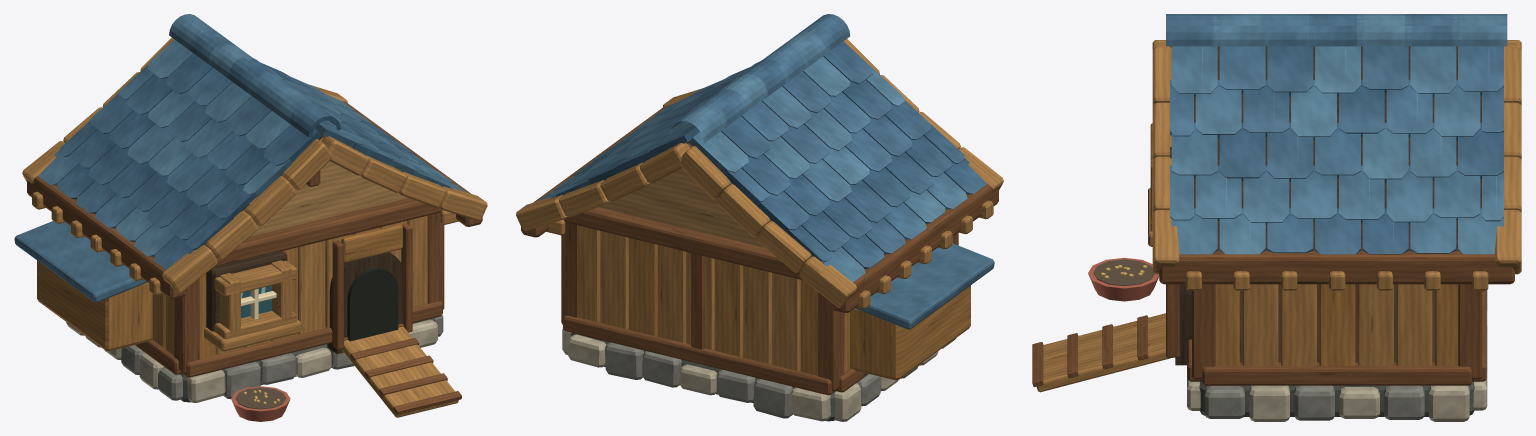
File: coop.glb
The picture shows the model from 3 angles, left to right: view 1: azimuth 30°, elevation 25°; view 2: azimuth 150°, elevation 25°; view 3: azimuth 270°, elevation 25°; orthographic projection. The views are drawn at different scales.
Visible parts, largest first — view 1: Batch_0_0_-9223371994123205027, Batch_-1_0_-9223372003669441051, Batch_0_0_-9223372003686218284, Batch_0_0_-9223372003669441051, Batch_-1_0_-9223372003686218284, Batch_-1_-1_-9223372003635886617, Batch_-1_-1_-9223371857355335716, Batch_0_0_-9223371870894549281, Batch_0_0_-9223371859301492929, Batch_-1_0_-9223372003619109400, Batch_0_0_-9223372003652663834, Batch_-1_0_-9223372003635886617 (+9 smaller); view 2: Batch_0_0_-9223371994123205027, Batch_-1_-1_-9223372003669441051, Batch_0_-1_-9223372003686218284, Batch_0_-1_-9223372003669441051, Batch_-1_-1_-9223372003635886617, Batch_-1_-1_-9223371857355335716, Batch_0_0_-9223371870894549281, Batch_-1_0_-9223372003686218284, Batch_-1_-1_-9223372003619109400, Batch_0_-1_-9223372003635886617, Batch_0_-1_-9223372003619109400, Batch_0_-1_-9223372003602332183 (+4 smaller); view 3: Batch_0_0_-9223371994123205027, Batch_0_0_-9223372003686218284, Batch_0_0_-9223372003669441051, Batch_0_-1_-9223372003669441051, Batch_0_-1_-9223372003635886617, Batch_0_0_-9223372003652663834, Batch_0_-1_-9223372003602332183, Batch_0_0_-9223372003619109400, Batch_0_-1_-9223372003686218284, Batch_0_0_-9223372003635886617, Batch_0_0_-9223372003602332183, Batch_0_-1_-9223372003619109400 (+5 smaller).
Part boxes in pixels (x1,y1,x2,y2): Batch_0_0_-9223371994123205027: (38, 14, 466, 269); Batch_-1_0_-9223372003669441051: (90, 139, 331, 354); Batch_0_0_-9223372003686218284: (182, 101, 482, 414); Batch_0_0_-9223372003669441051: (321, 136, 487, 417); Batch_-1_0_-9223372003686218284: (27, 176, 199, 374); Batch_-1_-1_-9223372003635886617: (37, 260, 152, 350); Batch_-1_-1_-9223371857355335716: (14, 221, 147, 302); Batch_0_0_-9223371870894549281: (250, 137, 407, 236); Batch_0_0_-9223371859301492929: (347, 267, 398, 341); Batch_-1_0_-9223372003619109400: (121, 345, 296, 400); Batch_0_0_-9223372003652663834: (241, 134, 403, 353); Batch_-1_0_-9223372003635886617: (165, 247, 297, 358); Batch_0_0_-9223371994123205027: (538, 14, 986, 282); Batch_-1_-1_-9223372003669441051: (679, 146, 911, 370); Batch_0_-1_-9223372003686218284: (561, 207, 835, 395); Batch_0_-1_-9223372003669441051: (516, 142, 690, 342); Batch_-1_-1_-9223372003635886617: (714, 259, 970, 380); Batch_-1_-1_-9223371857355335716: (855, 243, 994, 329); Batch_0_0_-9223371870894549281: (599, 143, 764, 247); Batch_-1_0_-9223372003686218284: (831, 184, 998, 392); Batch_-1_-1_-9223372003619109400: (716, 369, 880, 418); Batch_0_-1_-9223372003635886617: (629, 238, 657, 335); Batch_0_-1_-9223372003619109400: (605, 342, 681, 387); Batch_0_-1_-9223372003602332183: (562, 329, 717, 395); Batch_0_0_-9223371994123205027: (1166, 14, 1507, 254); Batch_0_0_-9223372003686218284: (1032, 250, 1514, 386); Batch_0_0_-9223372003669441051: (1036, 47, 1345, 392); Batch_0_-1_-9223372003669441051: (1358, 47, 1521, 365); Batch_0_-1_-9223372003635886617: (1319, 284, 1458, 365); Batch_0_0_-9223372003652663834: (1170, 46, 1481, 365); Batch_0_-1_-9223372003602332183: (1339, 311, 1487, 421); Batch_0_0_-9223372003619109400: (1187, 364, 1334, 420); Batch_0_-1_-9223372003686218284: (1458, 284, 1486, 381); Batch_0_0_-9223372003635886617: (1216, 284, 1239, 365); Batch_0_0_-9223372003602332183: (1187, 372, 1289, 421); Batch_0_-1_-9223372003619109400: (1384, 326, 1487, 419).
Bounding box in the file's own units: 3.71 × 2.71 × 3.63.
Materials: 19 (11 with a texture image).
